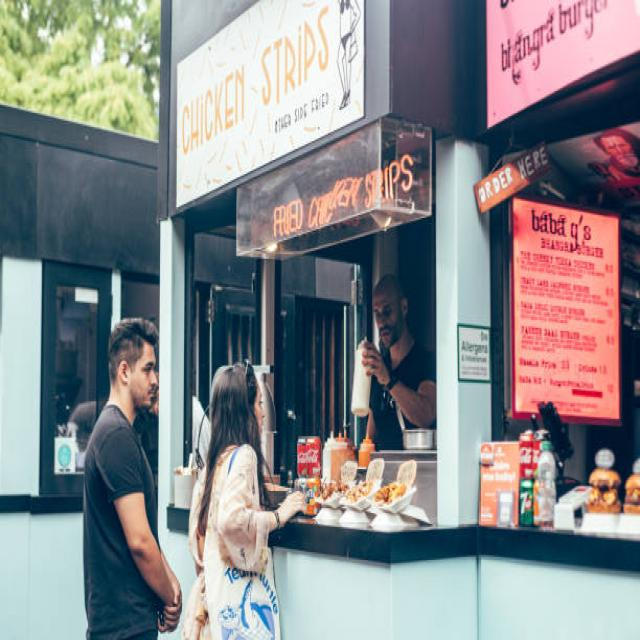Emperan: (96, 0, 487, 640), (459, 0, 640, 640)
